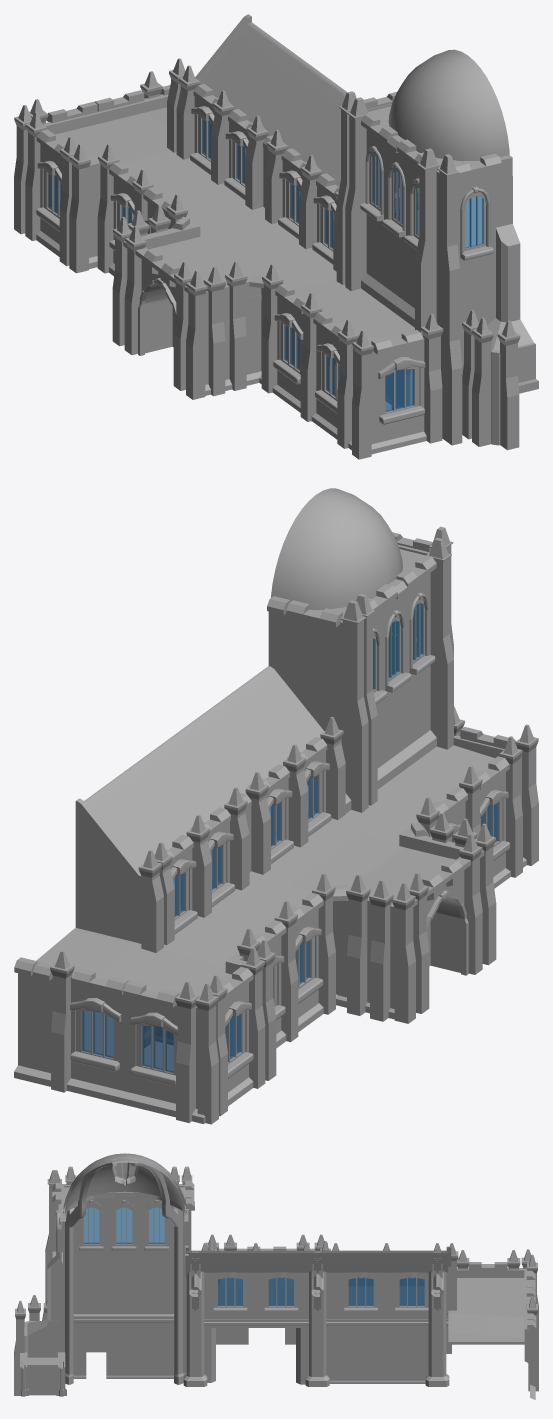
Rendered from Buildd.fbx.
The picture shows the model from 3 angles, top to bottom: view 1: azimuth 30°, elevation 25°; view 2: azimuth 150°, elevation 25°; view 3: azimuth 270°, elevation 25°; orthographic projection. The views are drawn at different scales.
Parts seen in each view (by area): view 1: pCube286, polySurface462, pCube215, pSphere11, polySurface367, pCube149, pCube161, polySurface468, polySurface336, pCube214, pCube251, polySurface339 (+4 smaller); view 2: pCube286, polySurface462, polySurface367, pSphere11, pCube215, pCube149, pCube161, pCube251, polySurface336, pCube214, polySurface341, pCube171 (+3 smaller); view 3: pCube286, polySurface386, pCube280, polySurface379, polySurface462, pSphere11, polySurface468, pCube161, polySurface339, polySurface367, polySurface336, pCube215 (+7 smaller).
Boxes of the visible parts, x1,y1,x2,y2 form: pCube286: [40, 14, 512, 444]; polySurface462: [14, 58, 520, 459]; pCube215: [336, 91, 462, 445]; pSphere11: [369, 49, 509, 167]; polySurface367: [36, 84, 501, 354]; pCube149: [36, 106, 425, 424]; pCube161: [43, 115, 419, 414]; polySurface468: [487, 223, 538, 445]; polySurface336: [360, 146, 493, 260]; pCube214: [369, 151, 485, 251]; pCube251: [36, 230, 426, 454]; polySurface339: [371, 156, 483, 248]; pCube286: [18, 544, 521, 1108]; polySurface462: [50, 706, 538, 1124]; polySurface367: [14, 532, 515, 1007]; pSphere11: [271, 488, 424, 615]; pCube215: [340, 526, 453, 812]; pCube149: [70, 761, 510, 1086]; pCube161: [76, 771, 502, 1075]; pCube251: [14, 857, 526, 1123]; polySurface336: [373, 592, 435, 704]; pCube214: [373, 598, 424, 692]; polySurface341: [345, 730, 436, 966]; pCube171: [82, 1011, 113, 1058]; pCube286: [58, 1184, 529, 1360]; polySurface386: [73, 1314, 448, 1384]; pCube280: [183, 1251, 449, 1386]; polySurface379: [60, 1162, 188, 1384]; polySurface462: [14, 1234, 538, 1395]; pSphere11: [60, 1153, 188, 1221]; polySurface468: [18, 1252, 66, 1396]; pCube161: [213, 1276, 528, 1361]; polySurface339: [83, 1207, 164, 1243]; polySurface367: [52, 1181, 536, 1331]; polySurface336: [51, 1200, 169, 1266]; pCube215: [42, 1166, 192, 1320].
Bounding box in the file's own units: 52.02 × 74.76 × 145.
